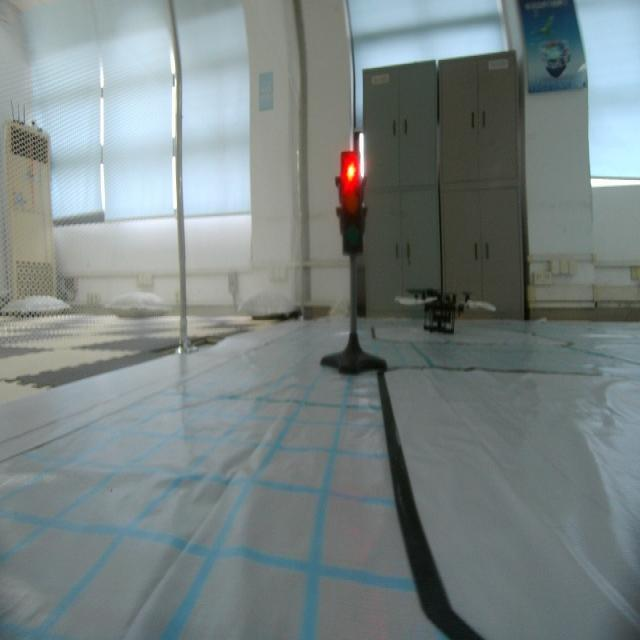red: (334, 145, 367, 258)
